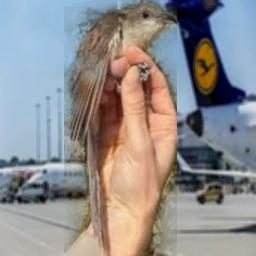Cuckoo: (64, 0, 177, 256)
